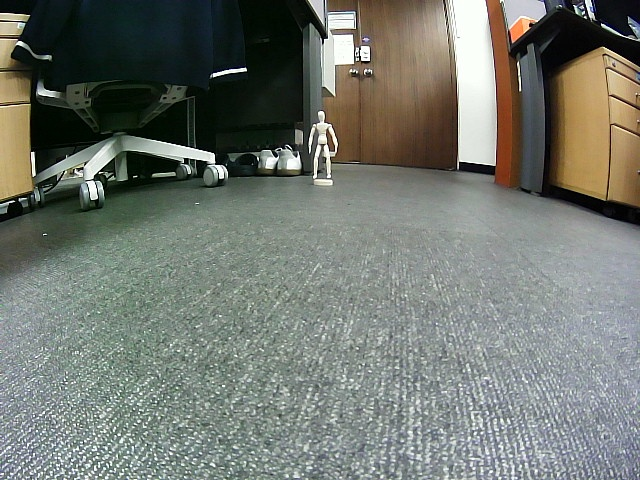person: (306, 111, 338, 179)
